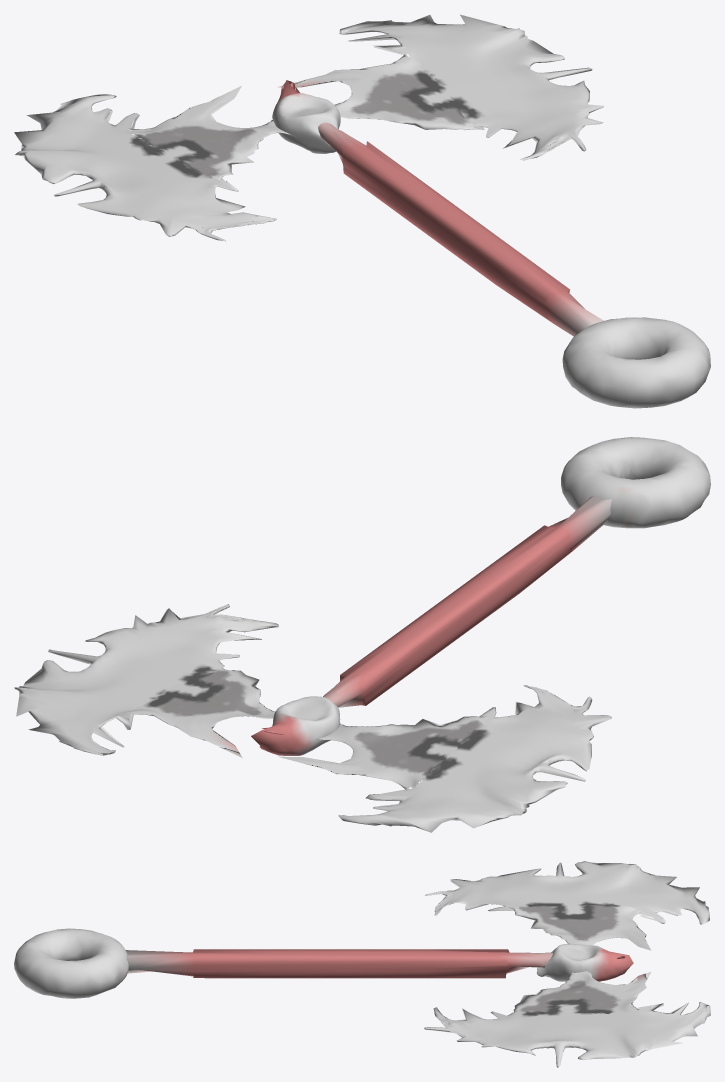
The picture shows the model from 3 angles, top to bottom: view 1: azimuth 30°, elevation 25°; view 2: azimuth 150°, elevation 25°; view 3: azimuth 270°, elevation 25°; orthographic projection. The views are drawn at different scales.
Parts seen in each view (by area): view 1: Model; view 2: Model; view 3: Model.
Part boxes in pixels (x1,y1,x2,y2): Model: (14,14,710,408); Model: (14,437,710,832); Model: (14,861,710,1067).
Bounding box in the file's own units: 72.22 × 5.81 × 105.
